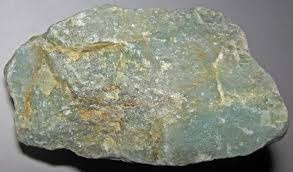obstacle: (0, 1, 292, 169)
